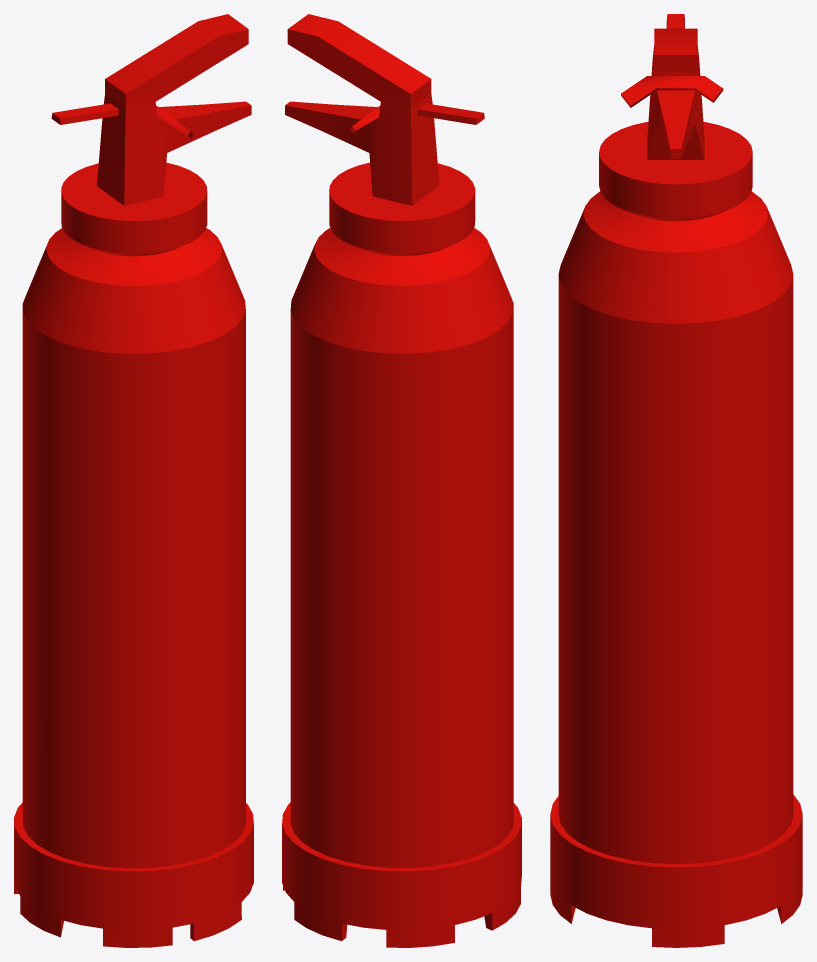
Rendered from pemadam api.fbx.
The picture shows the model from 3 angles, left to right: view 1: azimuth 30°, elevation 25°; view 2: azimuth 150°, elevation 25°; view 3: azimuth 270°, elevation 25°; orthographic projection. The views are drawn at different scales.
Parts seen in each view (by area): view 1: Cylinder; view 2: Cylinder; view 3: Cylinder.
Part boxes in pixels (bbox=[...]): Cylinder: bbox=[14, 14, 253, 947]; Cylinder: bbox=[282, 14, 521, 947]; Cylinder: bbox=[550, 14, 802, 947].
Bounding box in the file's own units: 41.53 × 154 × 39.53.
